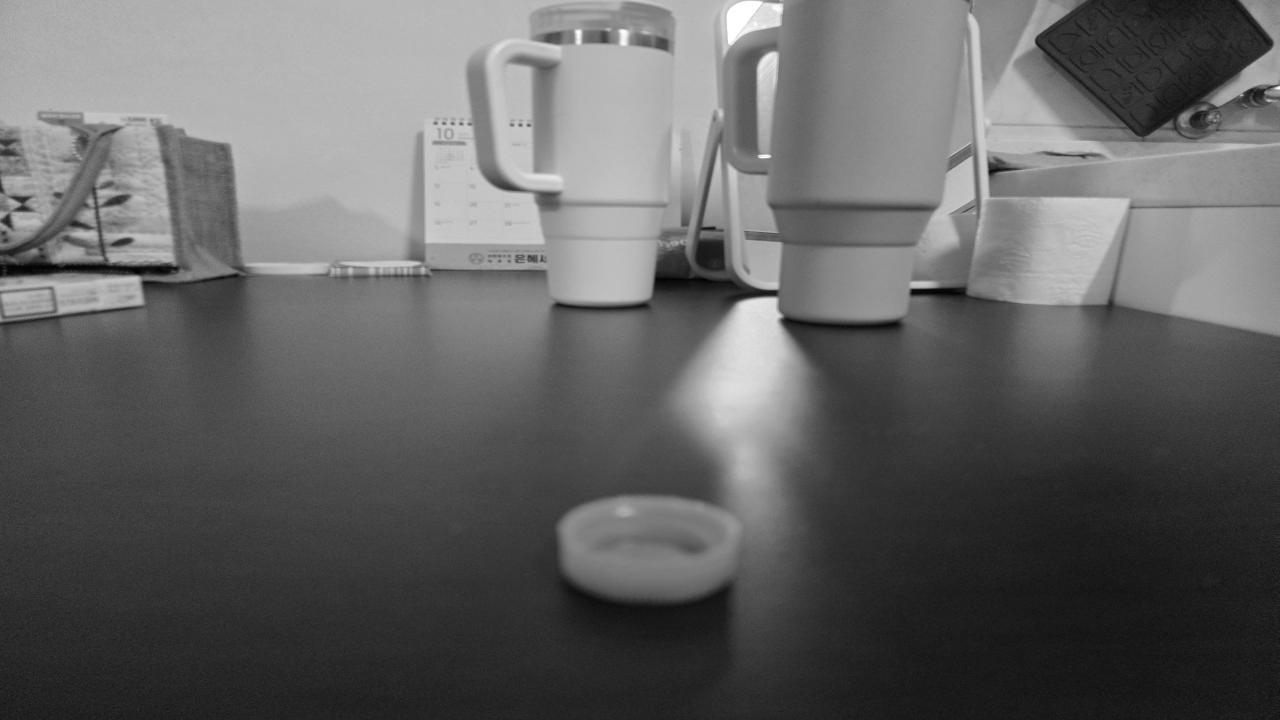bottle_cap: (551, 490, 745, 606)
